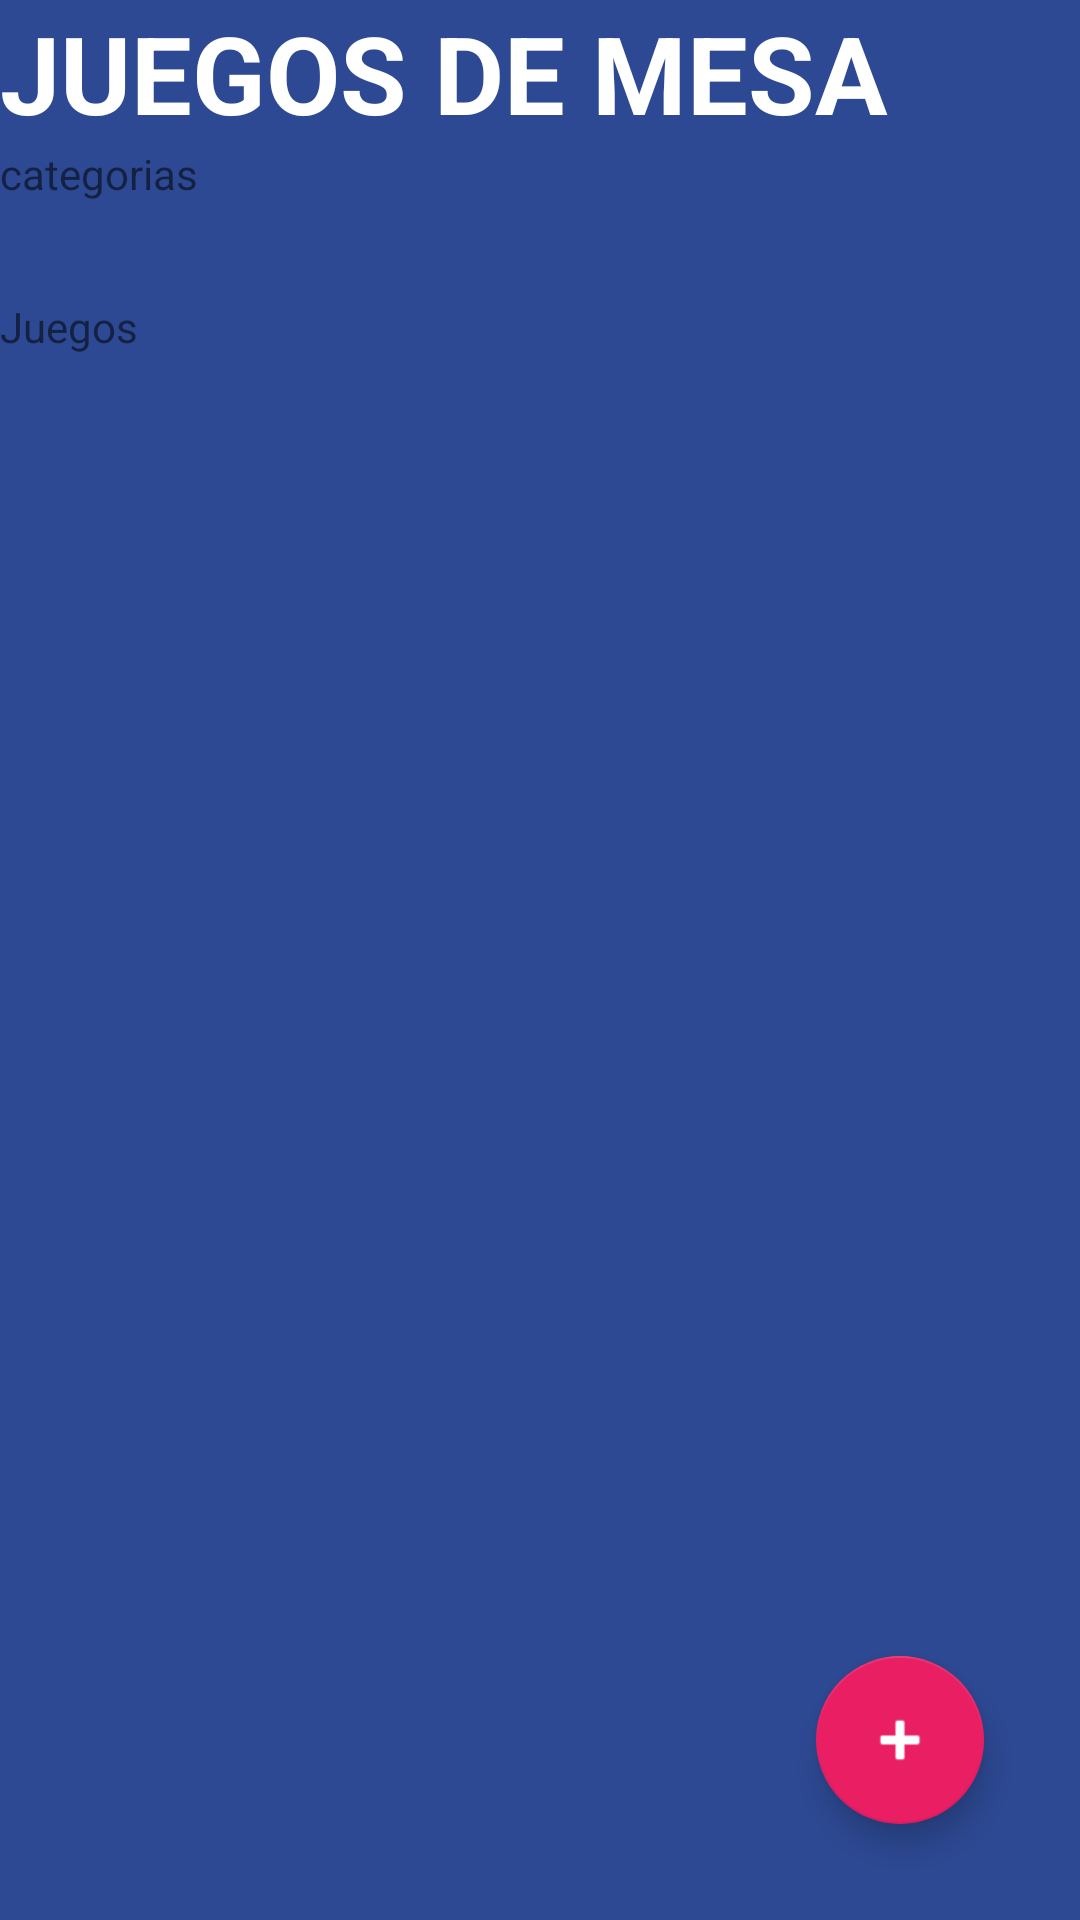

Named icons in this screenshot (1080w x 1920h) and their bounding boxes, (x1, y1, x2, y2):
Añade un juego: (816, 1656, 984, 1824)
